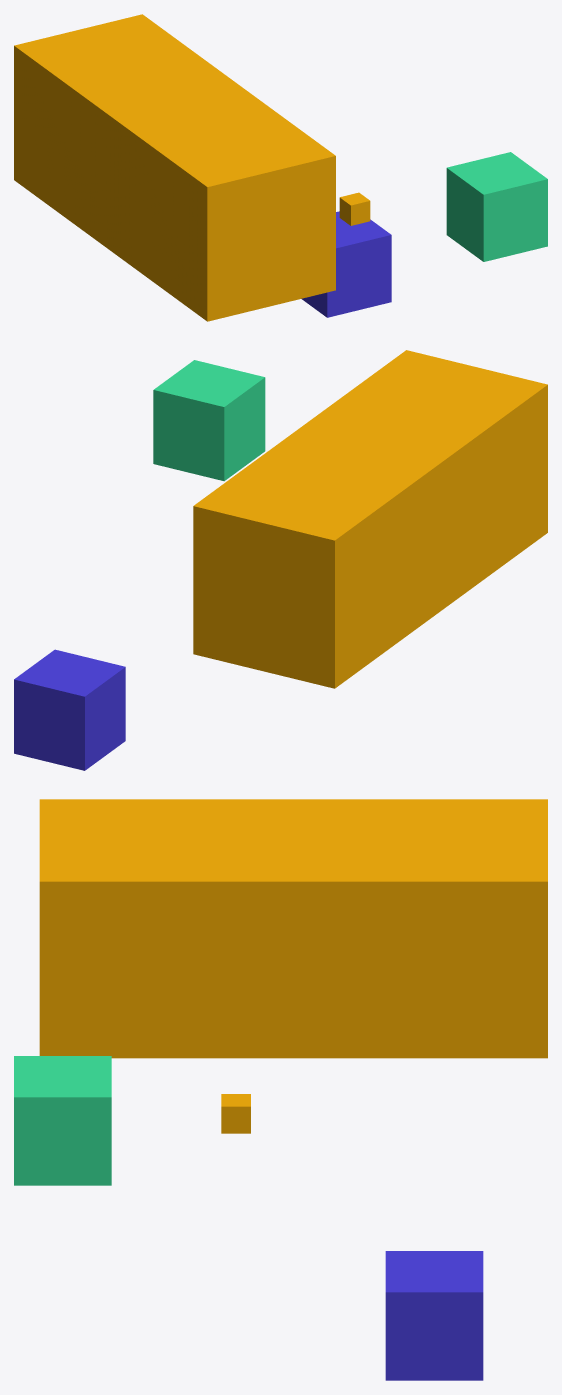
File: blockout.glb
3 renders of one model, top to bottom at view 1: azimuth 30°, elevation 25°; view 2: azimuth 150°, elevation 25°; view 3: azimuth 270°, elevation 25°, orthographic. The views are drawn at different scales.
Visible parts, largest first — view 1: Rectangle, CubeRotate, CubeElevate; view 2: Rectangle, CubeRotate, CubeElevate; view 3: Rectangle, CubeElevate, CubeRotate.
Part boxes in pixels (box(x1,y1,x2,y2)): Rectangle: box(14, 14, 370, 321); CubeRotate: box(446, 152, 547, 261); CubeElevate: box(301, 211, 391, 317); Rectangle: box(193, 350, 547, 688); CubeRotate: box(153, 360, 265, 481); CubeElevate: box(14, 649, 125, 770); Rectangle: box(39, 799, 547, 1133); CubeElevate: box(385, 1251, 483, 1380); CubeRotate: box(14, 1056, 111, 1185).
Bounding box in the file's own units: 33.81 × 28.17 × 35.98.
